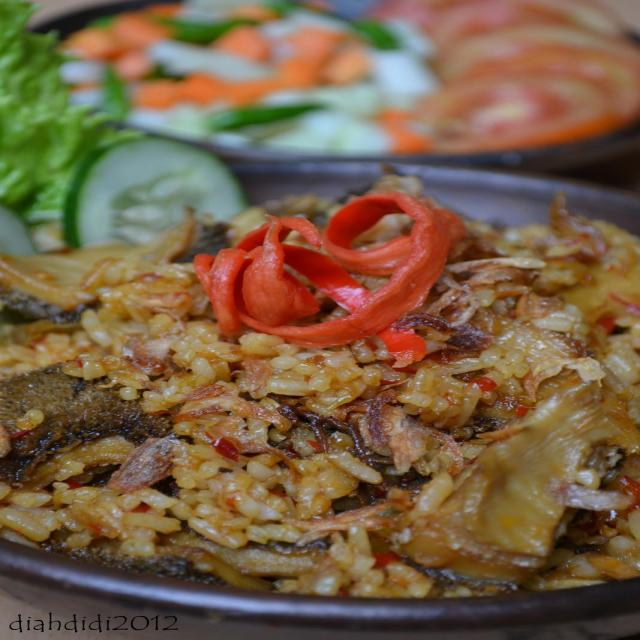Nasi Goreng: (1, 178, 638, 596)
